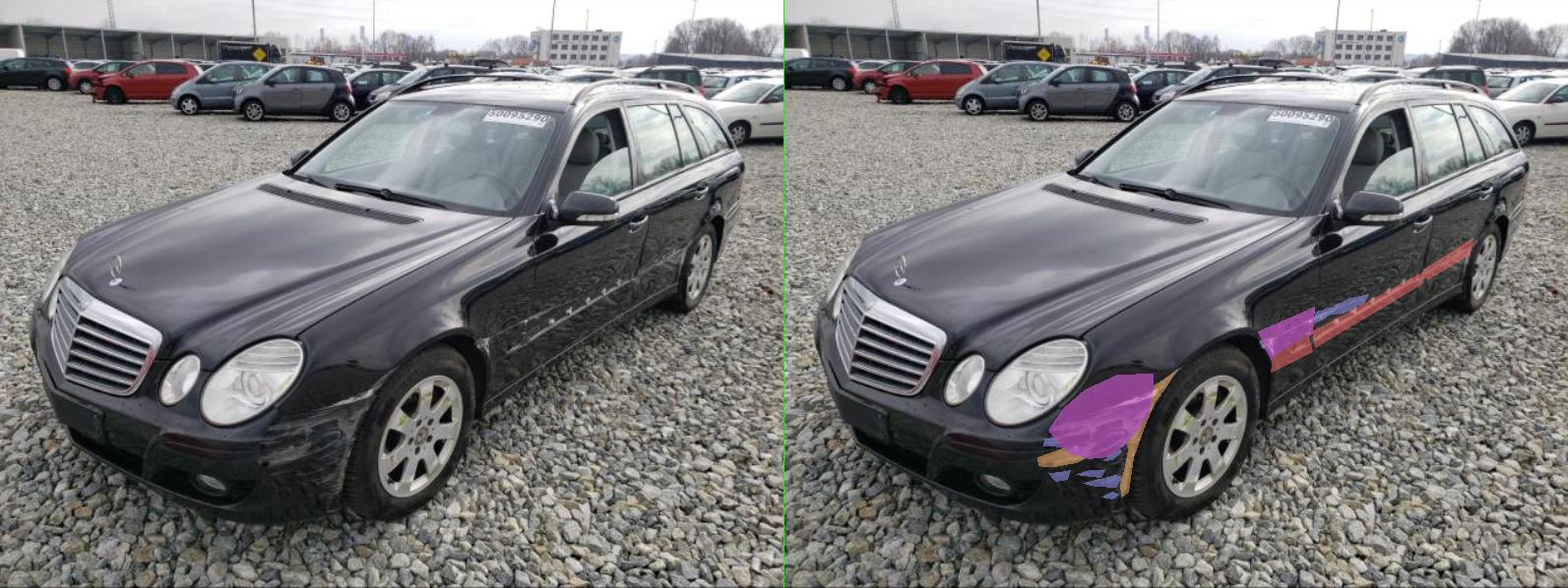Dent: (528, 374, 737, 458), (947, 307, 1060, 360)
Missing part: (1056, 273, 1273, 347), (1271, 239, 1373, 280), (1278, 238, 1377, 279), (973, 334, 1056, 372)
Paint chip: (650, 369, 786, 497), (506, 440, 630, 466)
Scratch: (949, 316, 1058, 353), (1056, 294, 1168, 323), (540, 411, 646, 434), (597, 475, 676, 487), (528, 470, 571, 481), (638, 448, 674, 460), (583, 470, 640, 477), (518, 438, 559, 446), (634, 492, 668, 499)
